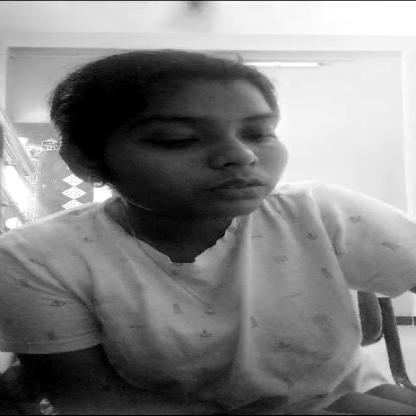Distracted: (94, 75, 310, 201)
